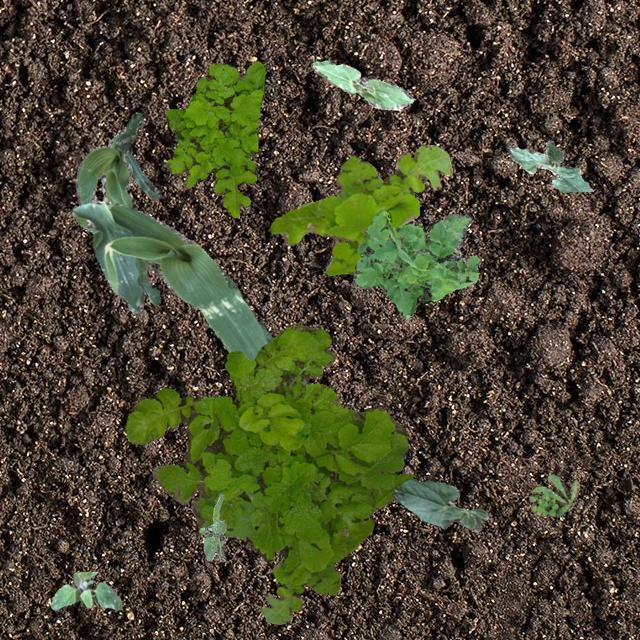crop: (71, 200, 307, 384), (74, 112, 160, 306), (390, 478, 488, 530), (312, 60, 412, 109), (508, 140, 592, 190)
weed: (124, 324, 416, 570), (268, 143, 452, 274), (164, 60, 264, 216), (352, 210, 479, 318), (260, 518, 372, 624), (50, 570, 122, 610), (528, 474, 578, 516), (198, 492, 226, 560)
